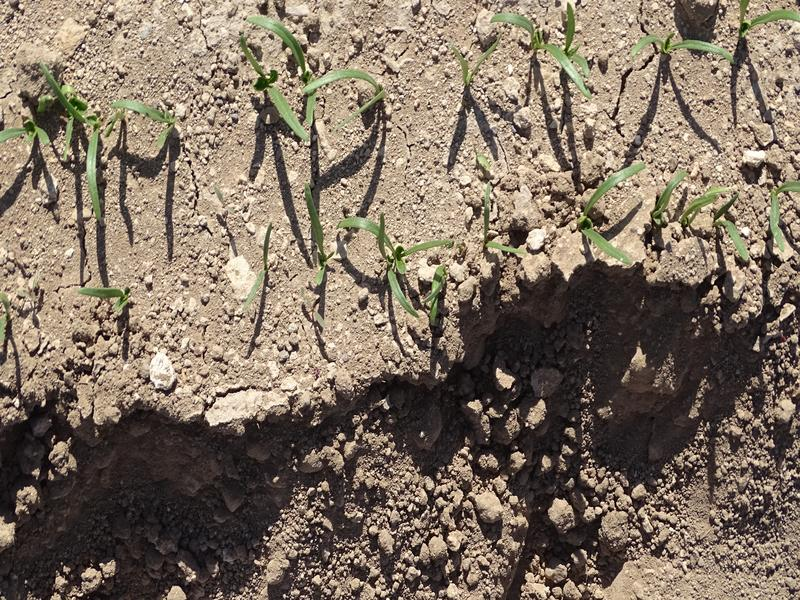Espinaca: (12, 68, 179, 208), (236, 16, 380, 134), (338, 208, 453, 313), (469, 11, 602, 92), (557, 154, 638, 267), (626, 27, 743, 69), (658, 172, 721, 231), (86, 281, 141, 317)
